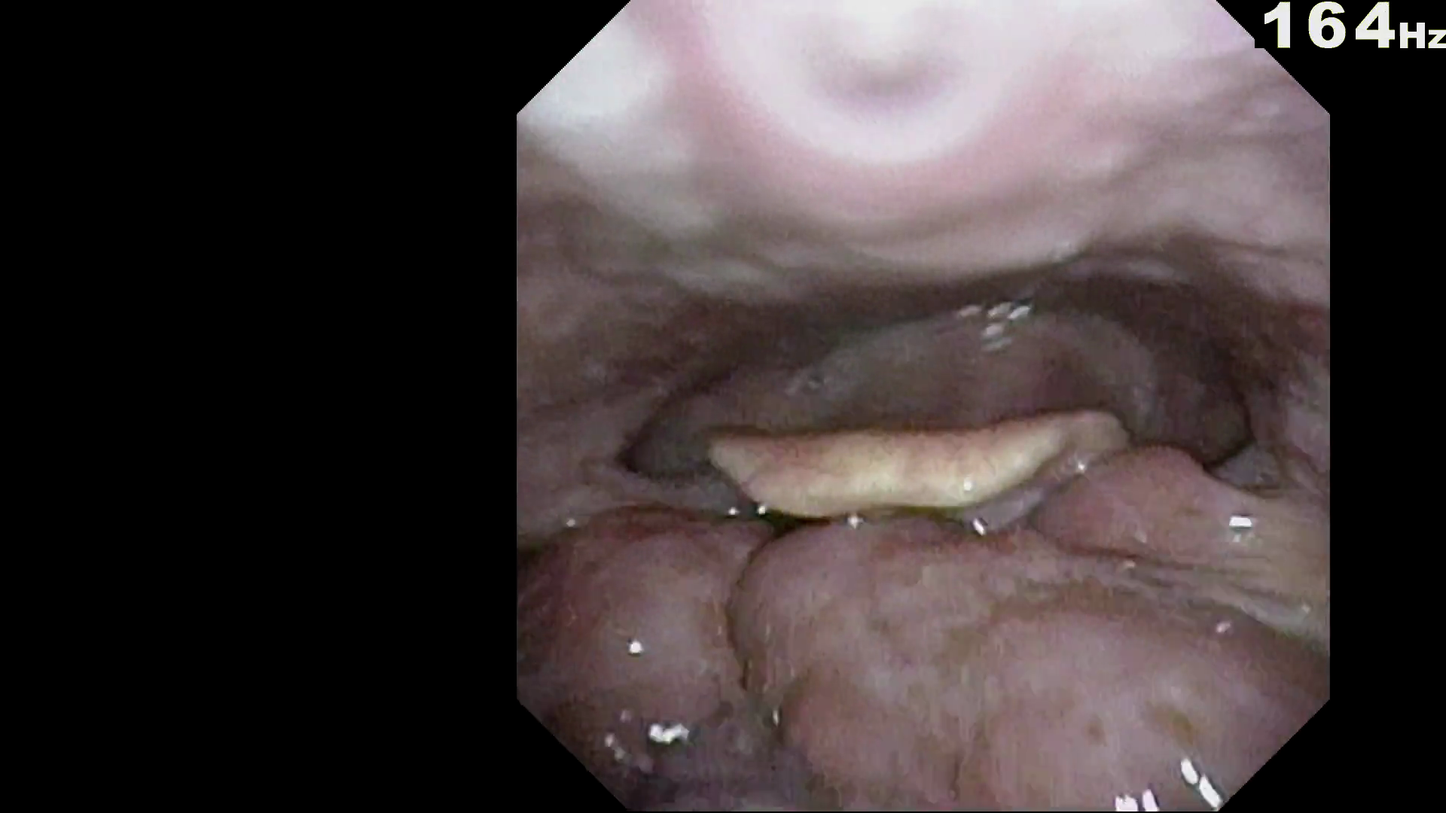epiglottis: (690, 417, 1179, 565)
trachea: (933, 445, 1051, 563)
